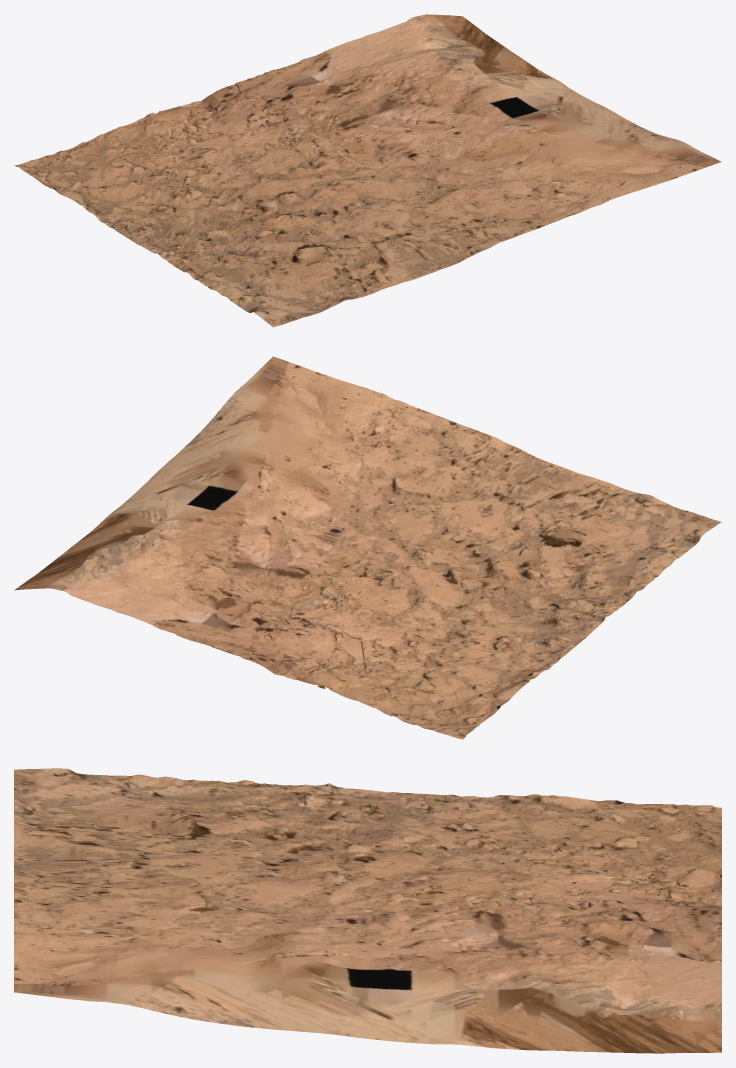
The picture shows the model from 3 angles, top to bottom: view 1: azimuth 30°, elevation 25°; view 2: azimuth 150°, elevation 25°; view 3: azimuth 270°, elevation 25°; orthographic projection. The views are drawn at different scales.
Bounding box in the file's own units: 16.71 × 2.99 × 16.71.
2 materials, 2 textured.
